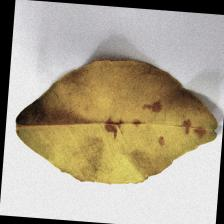black spot: (20, 72, 202, 162)
